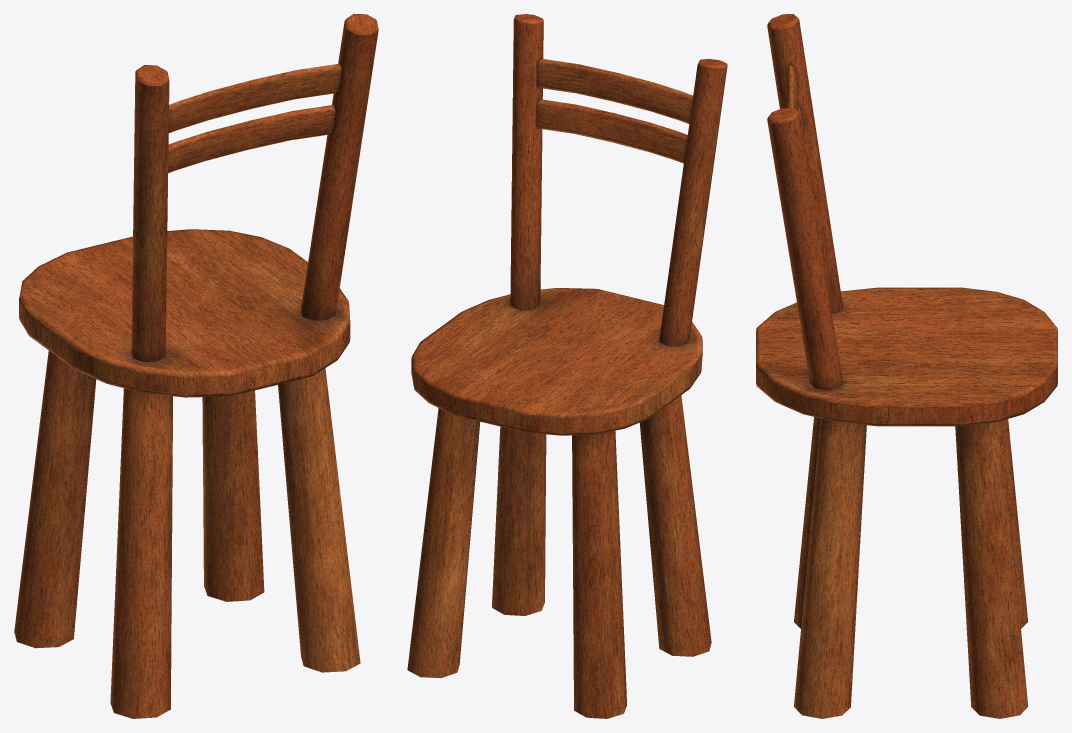
The model's file is chair.glb.
The picture shows the model from 3 angles, left to right: view 1: azimuth 30°, elevation 25°; view 2: azimuth 150°, elevation 25°; view 3: azimuth 270°, elevation 25°; orthographic projection. The views are drawn at different scales.
Parts seen in each view (by area): view 1: Cylinder; view 2: Cylinder; view 3: Cylinder.
Part boxes in pixels (x1,y1,x2,y2): Cylinder: (14, 14, 378, 718); Cylinder: (407, 14, 727, 718); Cylinder: (756, 14, 1057, 718).
Bounding box in the file's own units: 0.291 × 0.6948 × 0.3169.
1 material, 1 textured.
